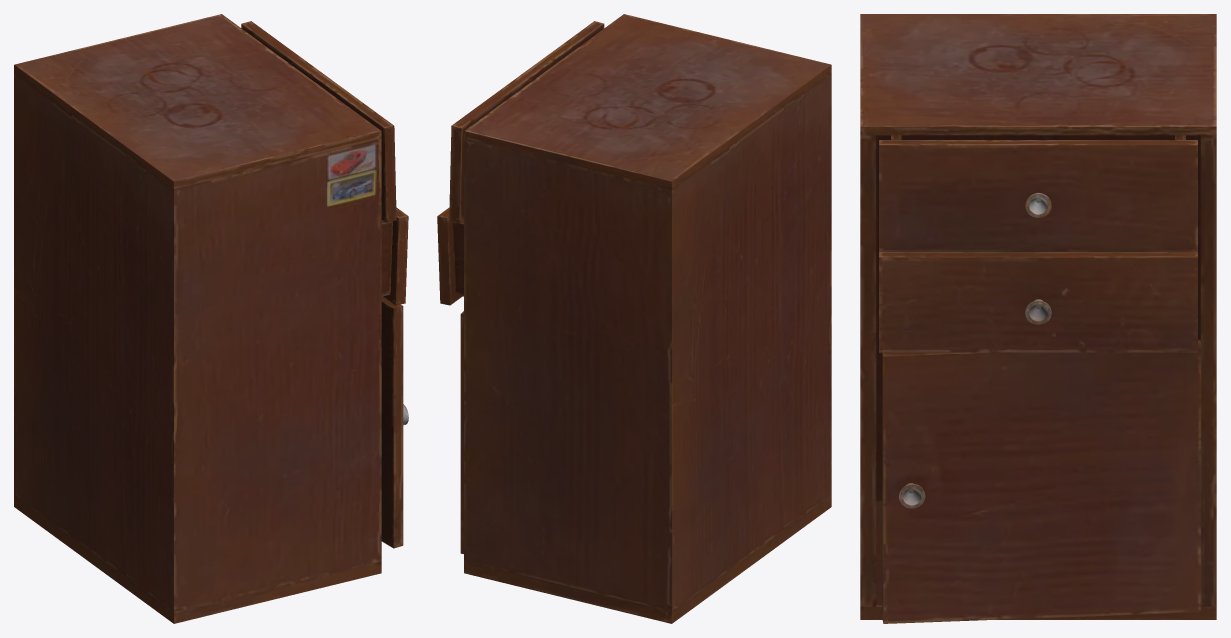
The model's file is soviet_furniture.glb.
3 renders of one model, left to right at view 1: azimuth 30°, elevation 25°; view 2: azimuth 150°, elevation 25°; view 3: azimuth 270°, elevation 25°, orthographic. The views are drawn at different scales.
Parts seen in each view (by area): view 1: Box001_Material #25_0; view 2: Box001_Material #25_0; view 3: Box001_Material #25_0.
Boxes of the visible parts, box(x1,y1,x2,y2) form: Box001_Material #25_0: box(14, 14, 408, 623); Box001_Material #25_0: box(437, 14, 831, 623); Box001_Material #25_0: box(860, 14, 1216, 623).
Size of the model in its own units: 0.4648 by 0.7683 by 0.5035.
Materials: 1 (1 with a texture image).
